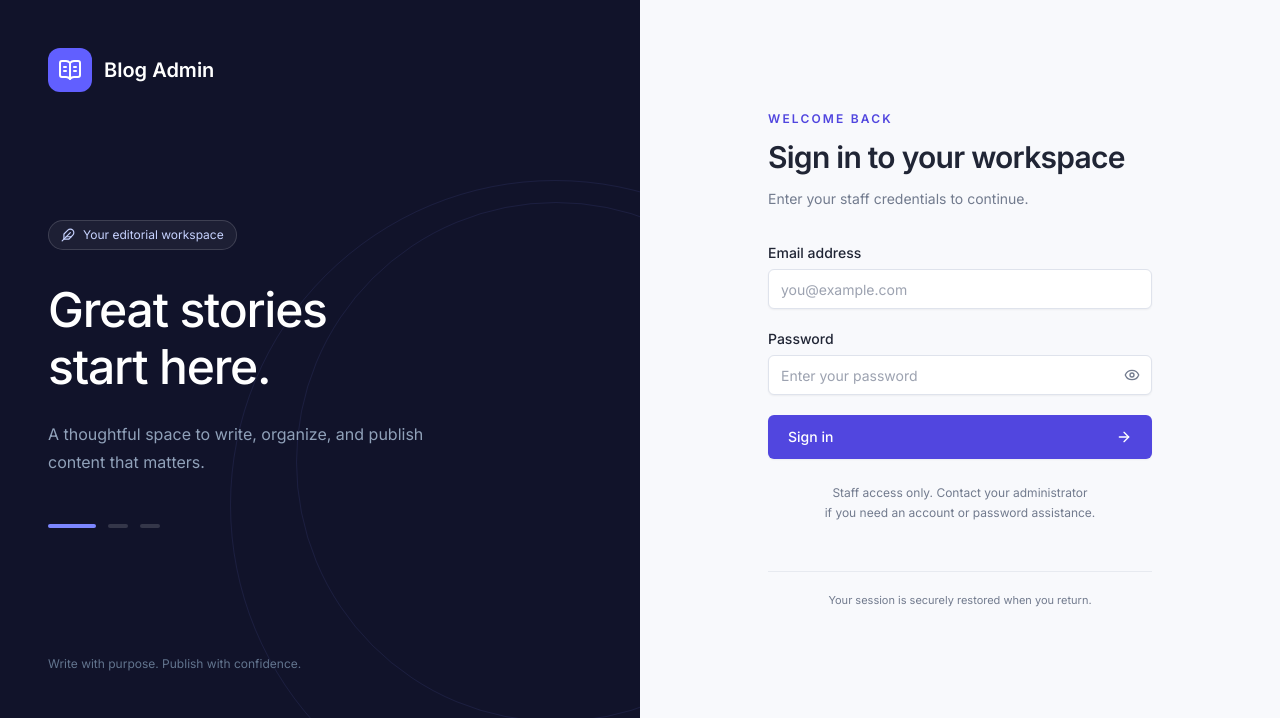
Test case: preserves entered details and shows the error when creation fails
Type "alex@example.test" into the field labelled "Email address". click: (960, 289)
box: x1=768 y1=269 x2=1152 y2=309
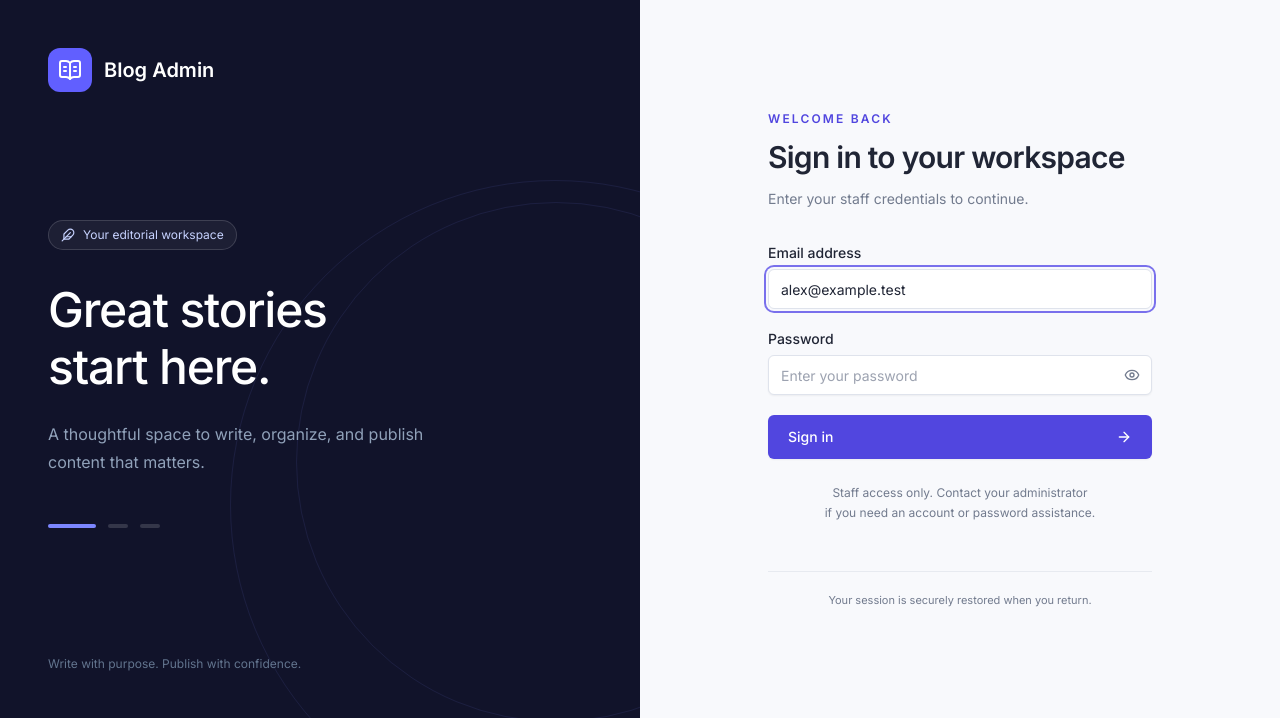
Type "a-secure-password" into the password field labelled "Password". click: (960, 375)
box: x1=768 y1=355 x2=1152 y2=395
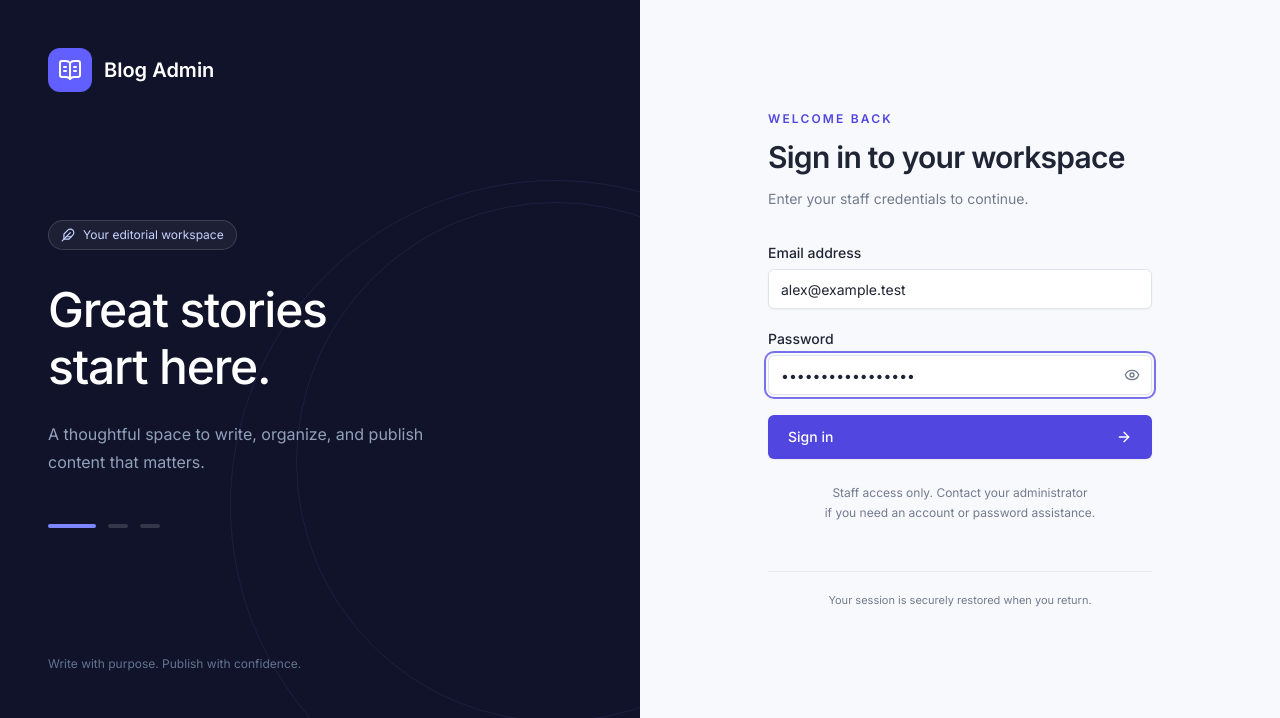
Click the button "Sign in". click: (811, 437)
box: x1=768 y1=415 x2=1152 y2=459
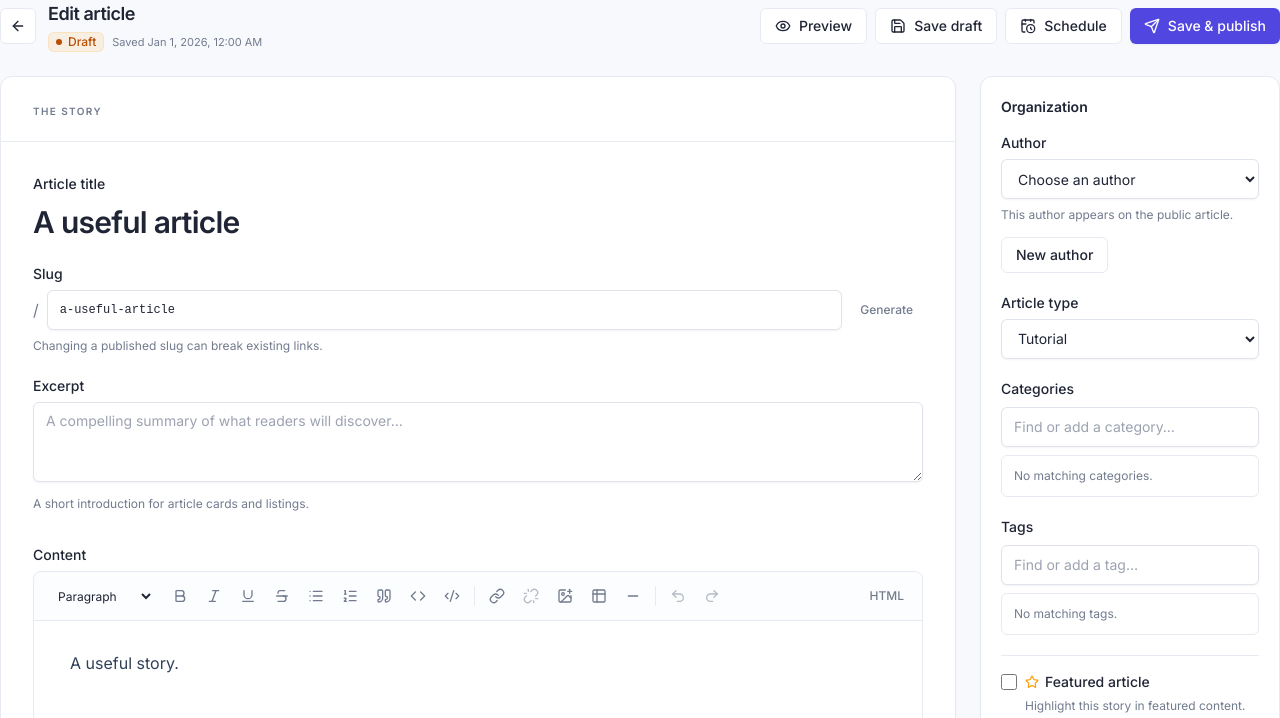
Result: the field named "Search categories" is shown
Type "New category" into the field named "Search categories". click: (1130, 426)
box: x1=1001 y1=406 x2=1259 y2=446
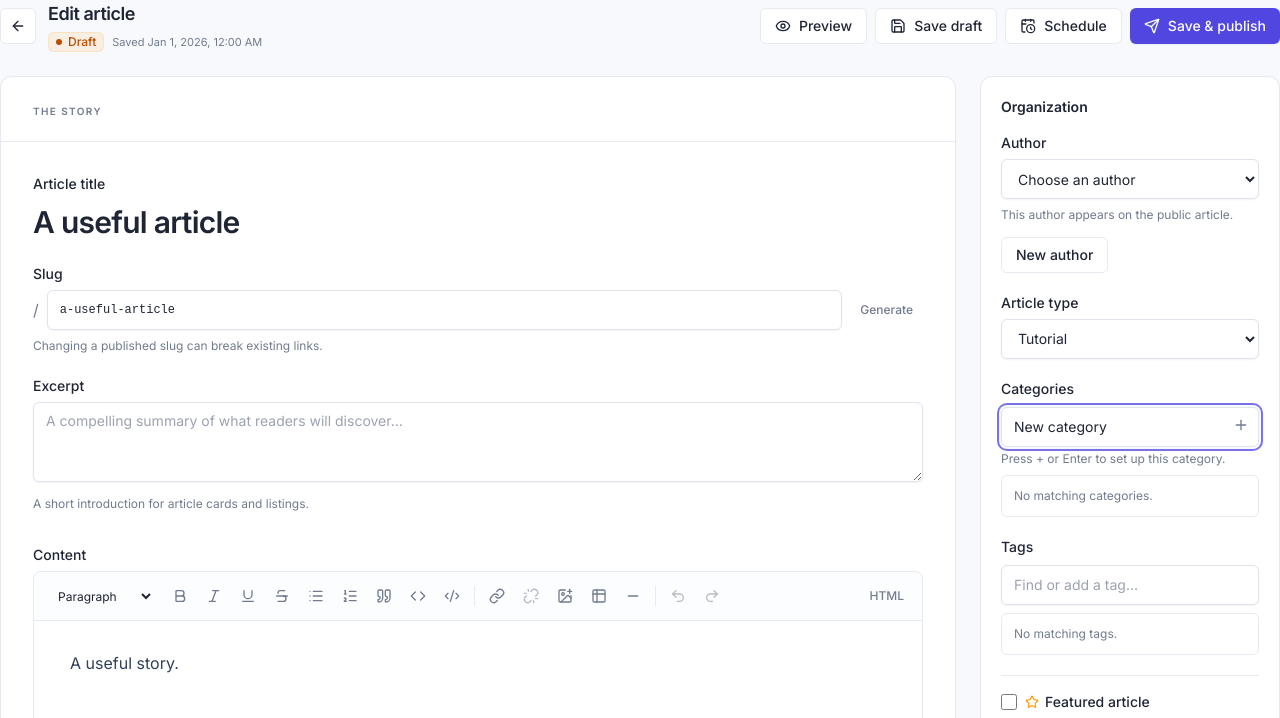
Click the button named "Add category \"New category\"". click: (1241, 424)
box: x1=1225 y1=408 x2=1257 y2=440
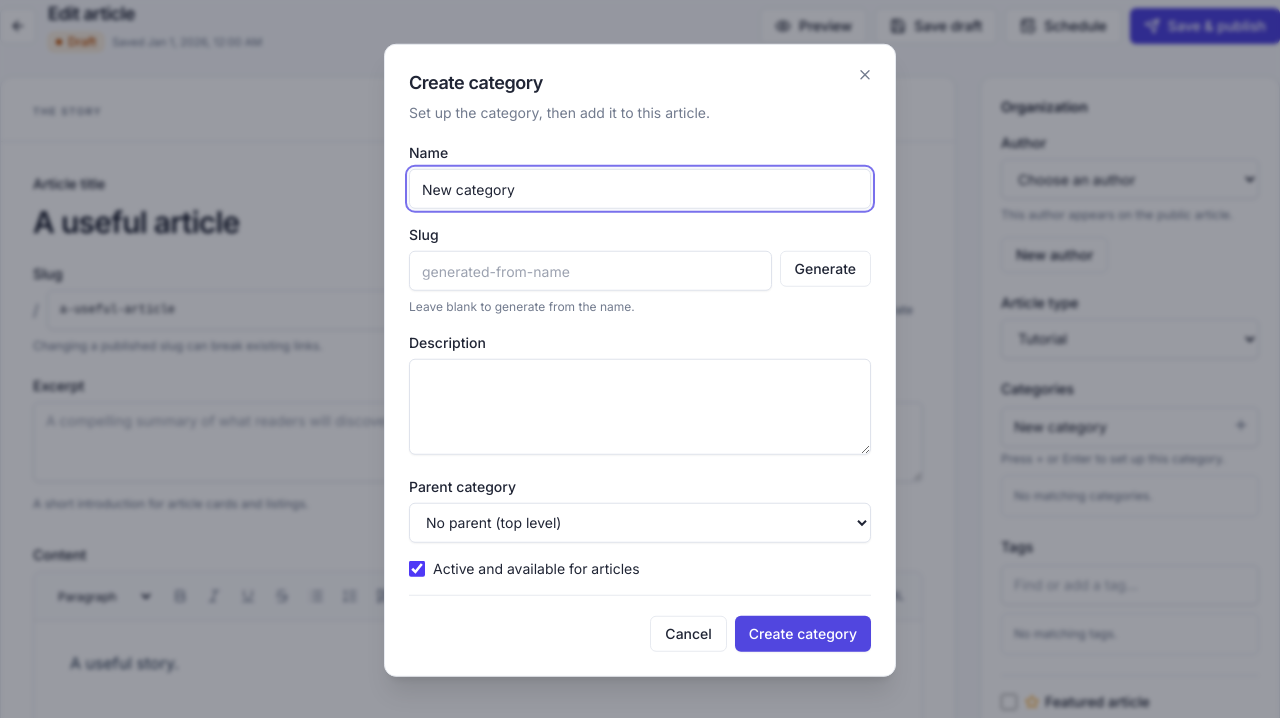
Click the button "Create category". click: (803, 633)
box: x1=735 y1=615 x2=871 y2=651
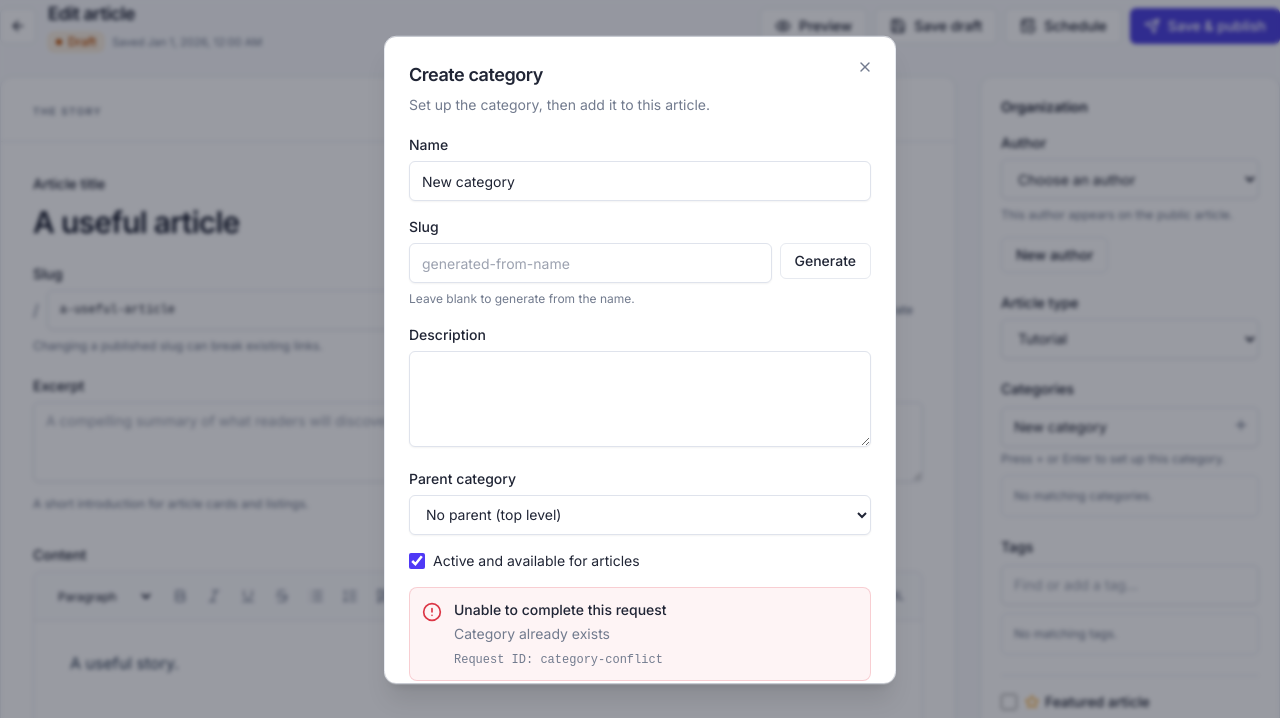
Result: the field labelled "Name" holds "New category" at x1=409 y1=161 x2=871 y2=201
Result: the text "Category already exists" is shown at x1=454 y1=624 x2=610 y2=642
